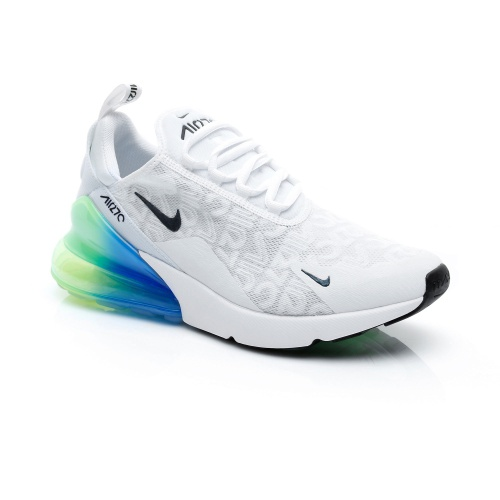nike: (133, 190, 183, 233), (289, 262, 336, 292)
